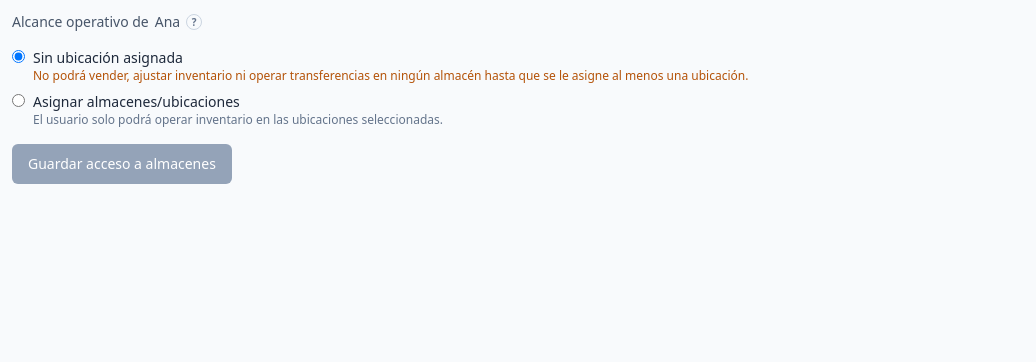
Test: LocationAccess › refuses to save "restricted" with zero locations selected
The width and height of the screenshot is (1036, 362).
Click the radio button labelled "Asignar almacenes/ubicaciones". click: {"x": 18, "y": 100}
box: x1=12 y1=94 x2=25 y2=107
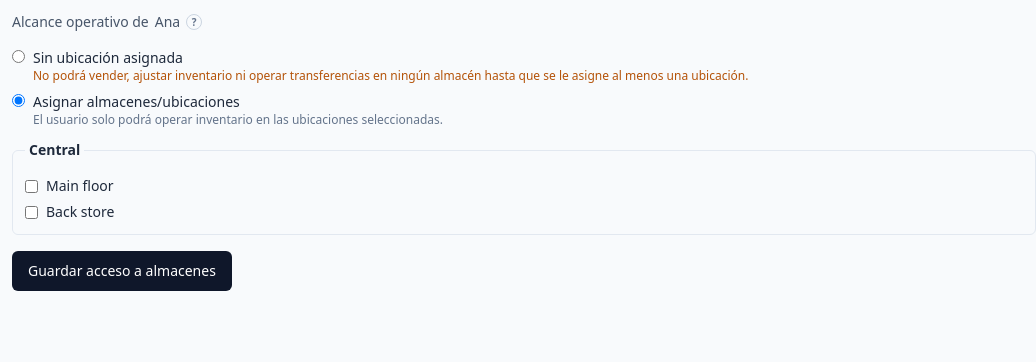
Click the button "Guardar acceso a almacenes". click: {"x": 122, "y": 271}
box: x1=12 y1=251 x2=232 y2=291
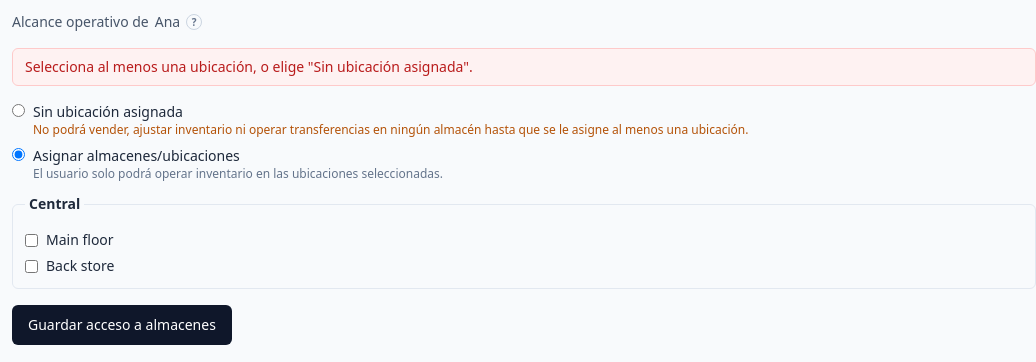
Check: the message shows "Selecciona al menos una ubicación", box x1=25 y1=57 x2=473 y2=76
